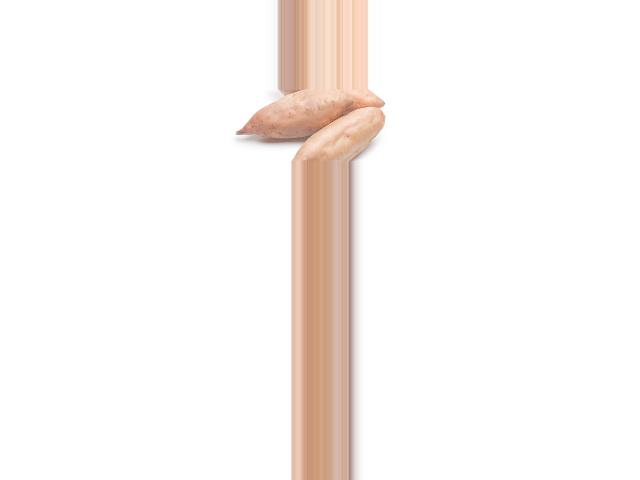sweet_potato: (286, 108, 385, 162)
